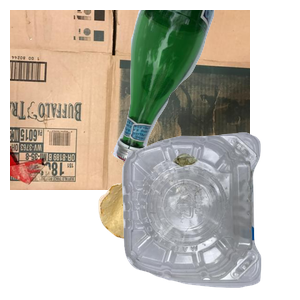cardboard: (10, 10, 250, 190)
glass: (109, 10, 300, 167)
plastic: (119, 130, 300, 300)
trash: (96, 181, 277, 300)
